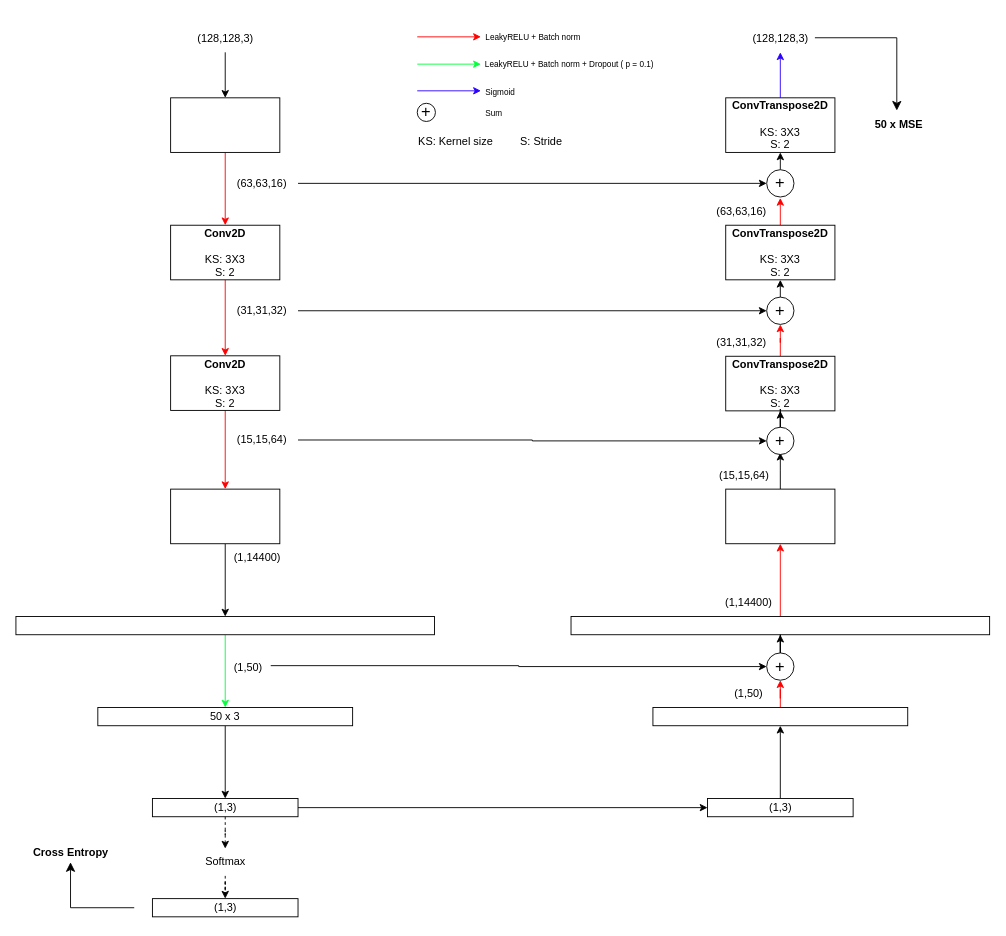
Some shapes in this 1006 by 936 pixel diagram are drawn without their labels. The box of each missing label's shape, as (x1, y1, x2, y2) in pixels:
144000 x 50: (15, 616, 435, 635)
3 x 50: (652, 707, 908, 726)
50 x 14400: (570, 616, 990, 635)
Conv2D KS:3X3 S:2: (170, 97, 280, 152)
Flatten: (170, 488, 280, 544)
Unflatten: (725, 488, 835, 544)
